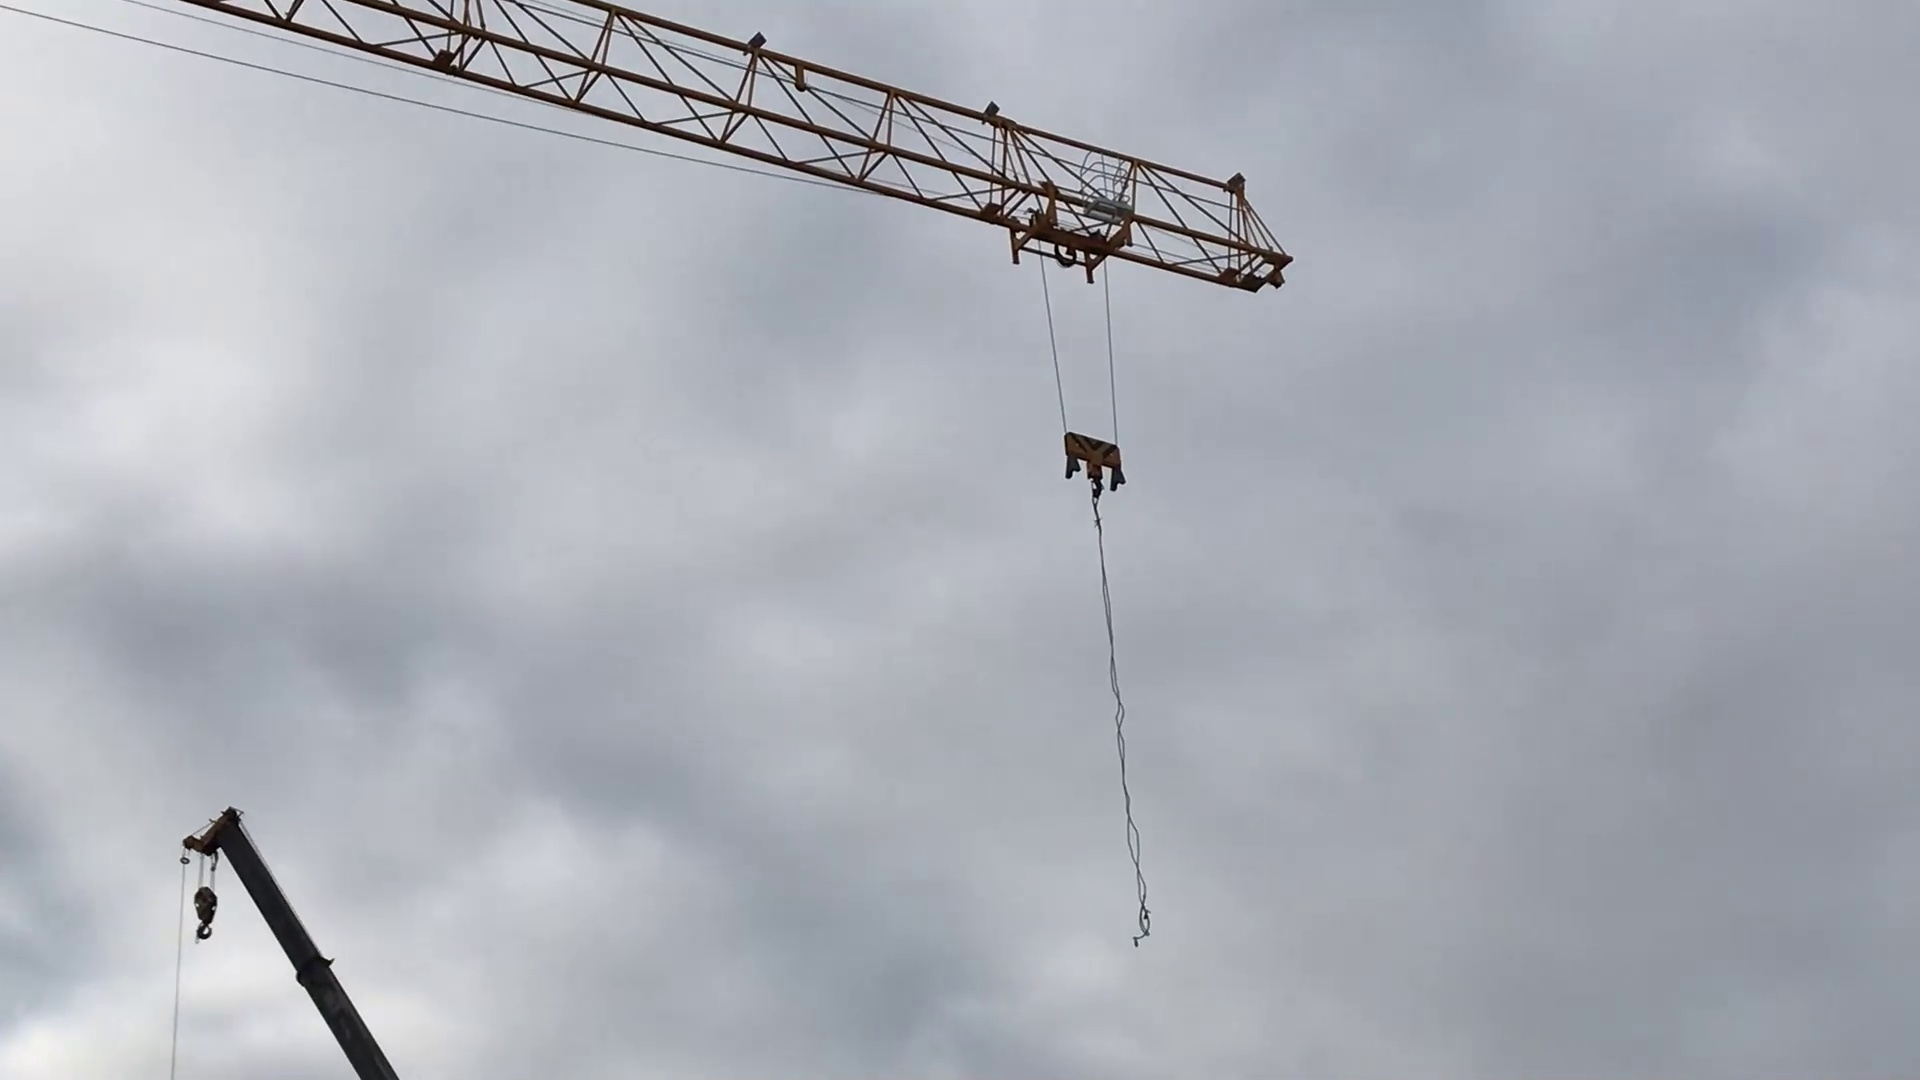hook: (1058, 427, 1134, 500)
